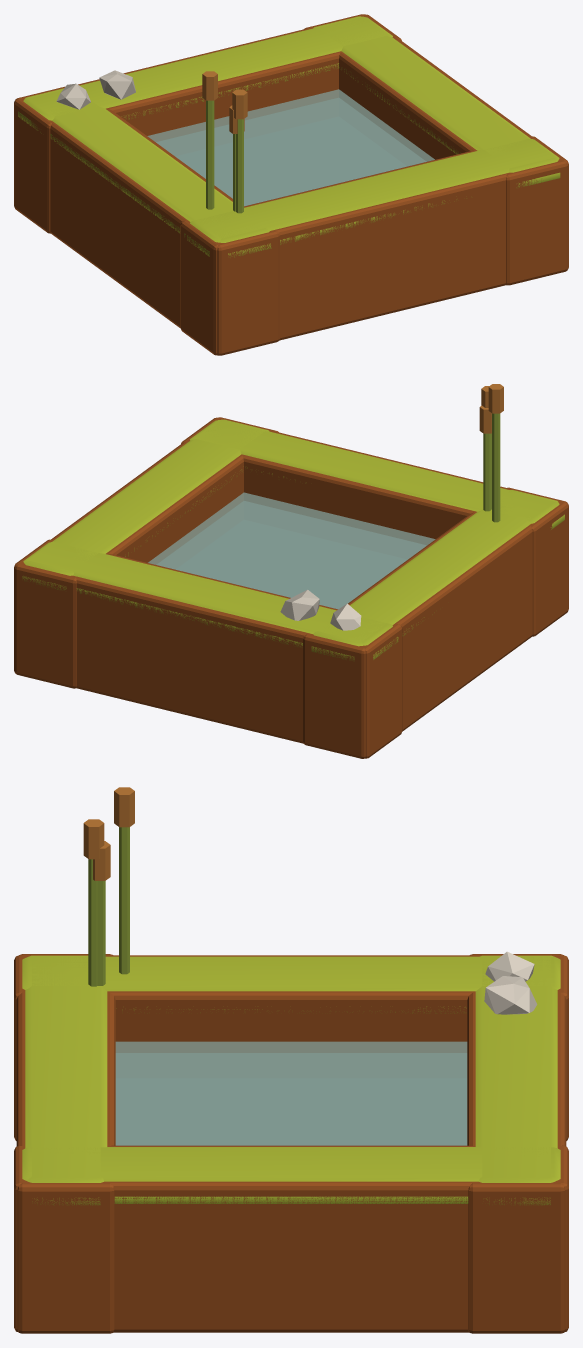
File: tile_grass_pond_edge.glb
3 views of the same model, one above another, from view 1: azimuth 30°, elevation 25°; view 2: azimuth 150°, elevation 25°; view 3: azimuth 270°, elevation 25° (orthographic). The views are drawn at different scales.
Parts seen in each view (by area): view 1: gp_rim_n, gp_rim_w, WaterSurface, gp_rim_s, gp_rim_e, gp_body, gp_cap_n, gp_cap_w, gp_cap_e, gp_cap_s, gpr_stalk0, gp_rock1 (+4 smaller); view 2: gp_rim_s, gp_rim_w, WaterSurface, gp_rim_n, gp_rim_e, gp_cap_s, gp_cap_n, gp_cap_e, gp_cap_w, gp_body, gpr_stalk0, gp_rock1 (+2 smaller); view 3: gp_rim_e, WaterSurface, gp_rim_w, gp_rim_s, gp_rim_n, gp_cap_n, gp_cap_e, gp_body, gp_cap_w, gp_cap_s, gp_rock1, gpr_stalk0 (+5 smaller).
Part boxes in pixels (left/top/right/bottom): gp_rim_n: left=180, top=136, right=568, bottom=355; gp_rim_w: left=15, top=86, right=279, bottom=355; WaterSurface: left=147, top=89, right=434, bottom=206; gp_rim_s: left=14, top=14, right=401, bottom=233; gp_rim_e: left=304, top=14, right=568, bottom=285; gp_body: left=50, top=199, right=506, bottom=340; gp_cap_n: left=184, top=138, right=559, bottom=256; gp_cap_w: left=24, top=88, right=271, bottom=257; gp_cap_e: left=313, top=16, right=560, bottom=187; gp_cap_s: left=18, top=16, right=392, bottom=133; gpr_stalk0: left=206, top=100, right=214, bottom=209; gp_rock1: left=99, top=70, right=135, bottom=99; gp_rim_s: left=14, top=539, right=402, bottom=758; gp_rim_w: left=303, top=487, right=567, bottom=758; WaterSurface: left=148, top=492, right=435, bottom=609; gp_rim_n: left=181, top=417, right=568, bottom=636; gp_rim_e: left=14, top=417, right=278, bottom=688; gp_cap_s: left=23, top=541, right=398, bottom=659; gp_cap_n: left=190, top=420, right=564, bottom=529; gp_cap_e: left=22, top=419, right=269, bottom=590; gp_cap_w: left=311, top=490, right=558, bottom=661; gp_body: left=76, top=653, right=429, bottom=743; gpr_stalk0: left=492, top=413, right=500, bottom=522; gp_rock1: left=280, top=589, right=319, bottom=620; gp_rim_e: left=14, top=1145, right=568, bottom=1332; WaterSurface: left=115, top=1041, right=467, bottom=1145; gp_rim_w: left=14, top=955, right=568, bottom=1140; gp_rim_s: left=467, top=954, right=566, bottom=1333; gp_rim_n: left=16, top=954, right=115, bottom=1333; gp_cap_n: left=25, top=955, right=107, bottom=1205; gp_cap_e: left=22, top=1147, right=560, bottom=1203; gp_body: left=114, top=1285, right=468, bottom=1332; gp_cap_w: left=22, top=956, right=560, bottom=1013; gp_cap_s: left=475, top=955, right=557, bottom=1205; gp_rock1: left=484, top=976, right=537, bottom=1014; gpr_stalk0: left=119, top=827, right=129, bottom=974.
Size of the model in its own units: 2.02 by 1.34 by 2.02.
